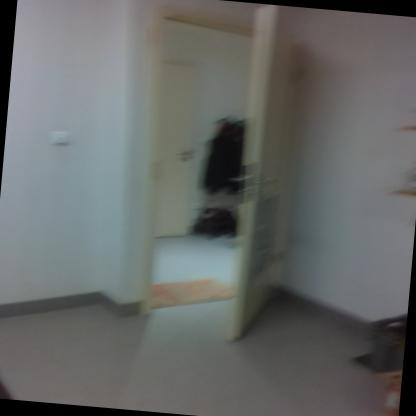semi: (116, 4, 322, 342)
